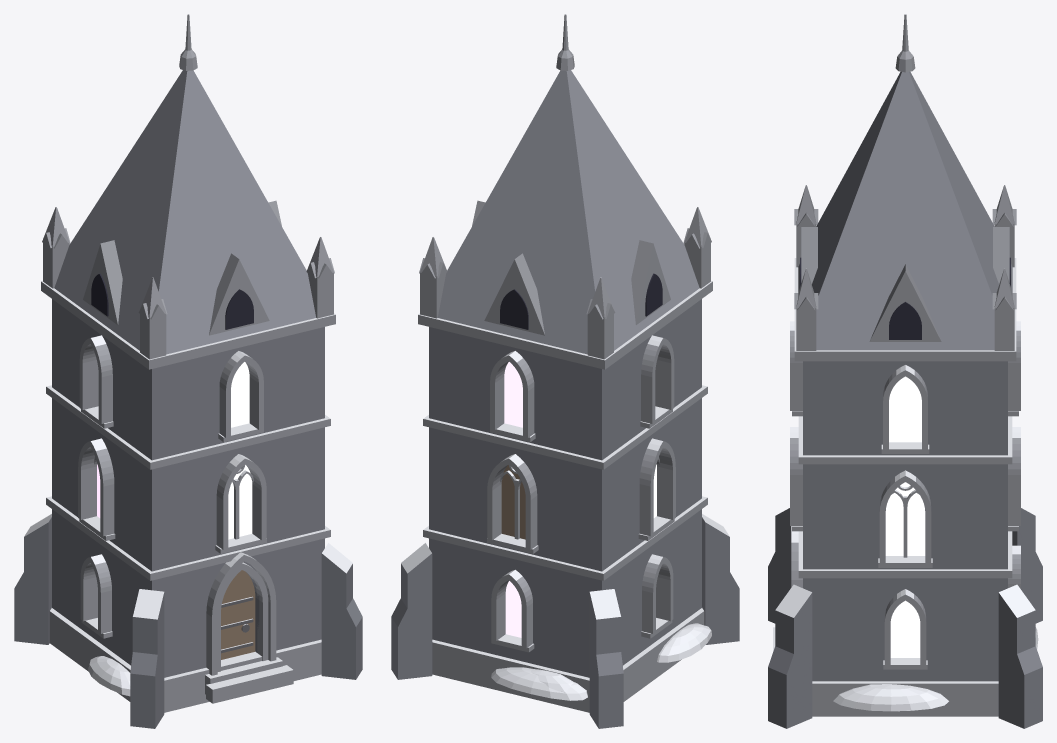
Rendered from AR_Casa_Torre.fbx.
The picture shows the model from 3 angles, left to right: view 1: azimuth 30°, elevation 25°; view 2: azimuth 150°, elevation 25°; view 3: azimuth 270°, elevation 25°; orthographic projection. The views are drawn at different scales.
Visible parts, largest first — view 1: AR_Casa_Torre; view 2: AR_Casa_Torre; view 3: AR_Casa_Torre.
Boxes of the visible parts, x1=… form: AR_Casa_Torre: x1=14, y1=14, x2=362, y2=728; AR_Casa_Torre: x1=391, y1=14, x2=739, y2=728; AR_Casa_Torre: x1=768, y1=14, x2=1042, y2=728.
Bounding box in the file's own units: 8.32 × 21.92 × 8.32.
